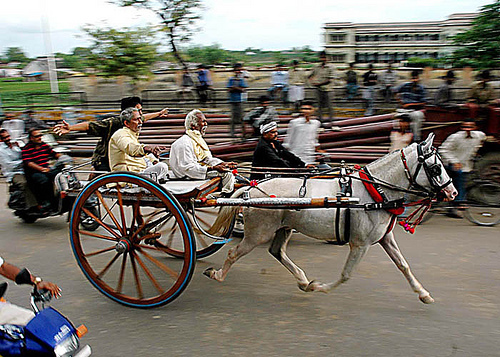horse: (204, 129, 459, 304)
